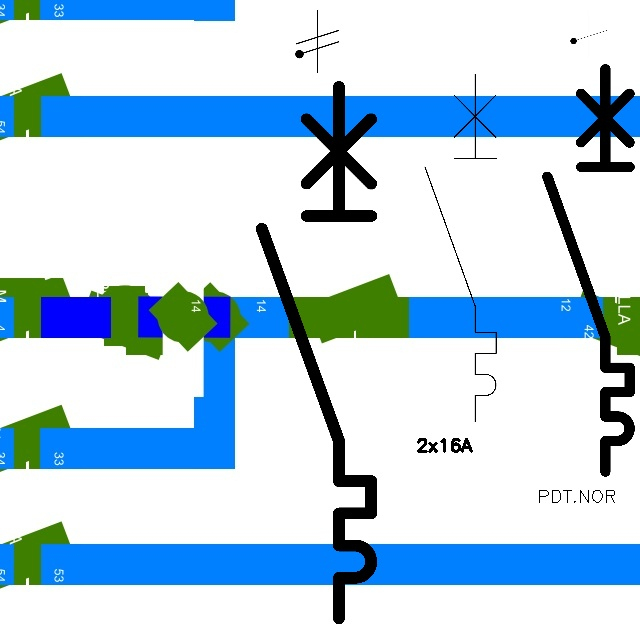interruptor_termomagnetico: (248, 73, 385, 632), (537, 58, 640, 481), (416, 65, 505, 431)
